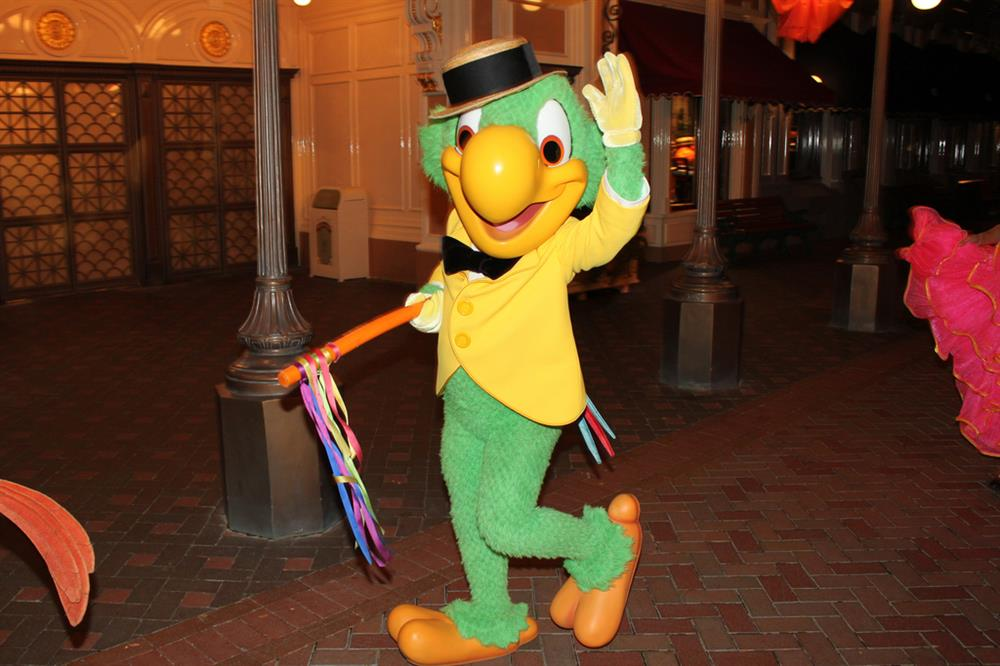Jose_Carioca: (379, 39, 666, 645)
